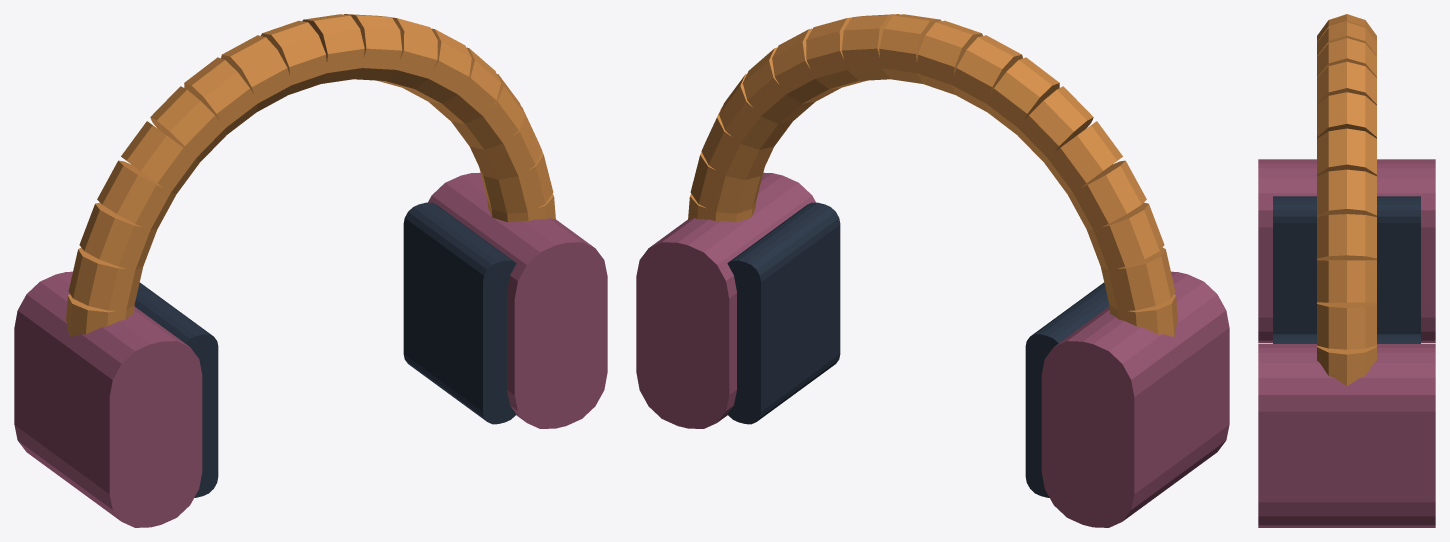
File: headphones.glb
The picture shows the model from 3 angles, left to right: view 1: azimuth 30°, elevation 25°; view 2: azimuth 150°, elevation 25°; view 3: azimuth 270°, elevation 25°; orthographic projection. The views are drawn at different scales.
Parts seen in each view (by area): view 1: left cup, right cup, right pad, left pad, headband15, headband14, headband12, headband16, headband11, headband13, headband10, headband9 (+10 smaller); view 2: left cup, right cup, right pad, left pad, headband15, headband14, headband12, headband16, headband11, headband13, headband10, headband9 (+10 smaller); view 3: right cup, left pad, left cup, headband1, headband3, headband4, headband2, headband5, headband6, headband7, headband0, headband8 (+3 smaller).
Part boxes in pixels (x1,y1,x2,y2): left cup: [14, 271, 202, 527]; right cup: [428, 172, 607, 428]; right pad: [403, 202, 516, 424]; left pad: [134, 282, 218, 497]; headband15: [79, 202, 156, 269]; headband14: [97, 160, 176, 230]; headband12: [150, 86, 226, 162]; headband16: [68, 247, 142, 310]; headband11: [184, 57, 257, 134]; headband13: [121, 121, 199, 194]; headband10: [221, 35, 292, 111]; headband9: [261, 20, 327, 94]; left cup: [1041, 271, 1229, 527]; right cup: [636, 172, 815, 428]; right pad: [727, 202, 840, 424]; left pad: [1025, 282, 1109, 497]; headband15: [1087, 202, 1164, 270]; headband14: [1067, 160, 1146, 230]; headband12: [1017, 86, 1093, 162]; headband16: [1101, 247, 1175, 310]; headband11: [986, 57, 1059, 134]; headband13: [1044, 121, 1122, 194]; headband10: [951, 35, 1022, 111]; headband9: [917, 20, 982, 94]; right cup: [1258, 344, 1435, 527]; left pad: [1273, 196, 1420, 333]; left cup: [1258, 159, 1435, 343]; headband1: [1317, 302, 1376, 349]; headband3: [1317, 214, 1376, 259]; headband4: [1317, 169, 1376, 216]; headband2: [1317, 260, 1376, 302]; headband5: [1317, 128, 1376, 176]; headband6: [1317, 92, 1376, 138]; headband7: [1317, 61, 1376, 105]; headband0: [1317, 345, 1376, 385]; headband8: [1317, 38, 1376, 77].
Bounding box in the file's own units: 1.45 × 1.17 × 0.48.
